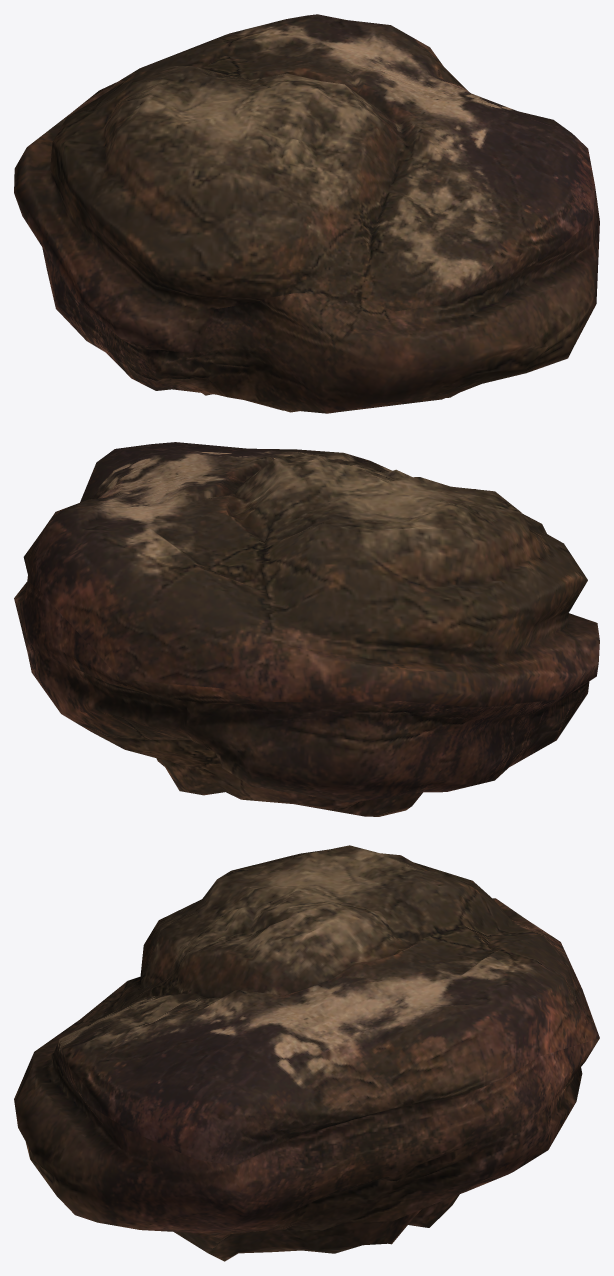
Rendered from rock_red_small03.dae.
3 views of the same model, one above another, from view 1: azimuth 30°, elevation 25°; view 2: azimuth 150°, elevation 25°; view 3: azimuth 270°, elevation 25° (orthographic). The views are drawn at different scales.
Visible parts, largest first — view 1: Mesh_01; view 2: Mesh_01; view 3: Mesh_01.
Boxes of the visible parts, x1,y1,x2,y2 form: Mesh_01: (14, 14, 599, 413); Mesh_01: (14, 442, 599, 816); Mesh_01: (14, 845, 599, 1261).
Bounding box in the file's own units: 3.01 × 1.76 × 3.09.
